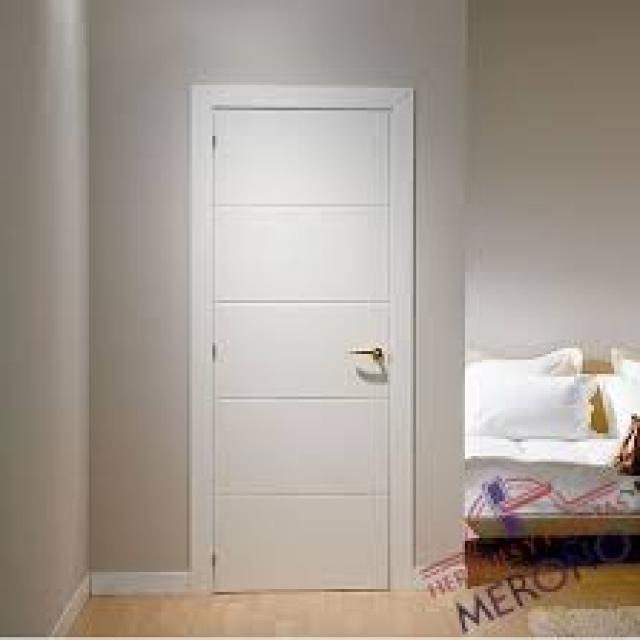door: (195, 86, 413, 594)
